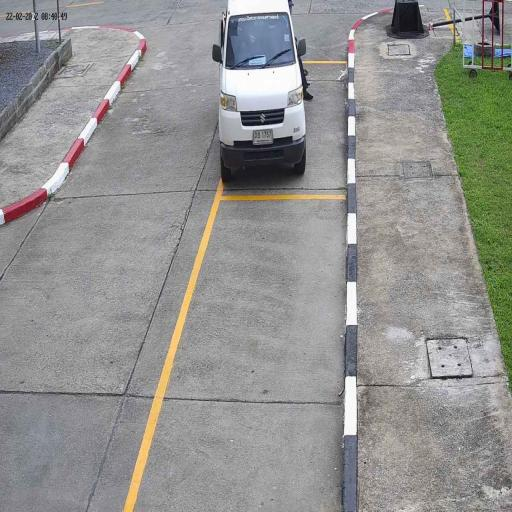car: (218, 0, 307, 182)
